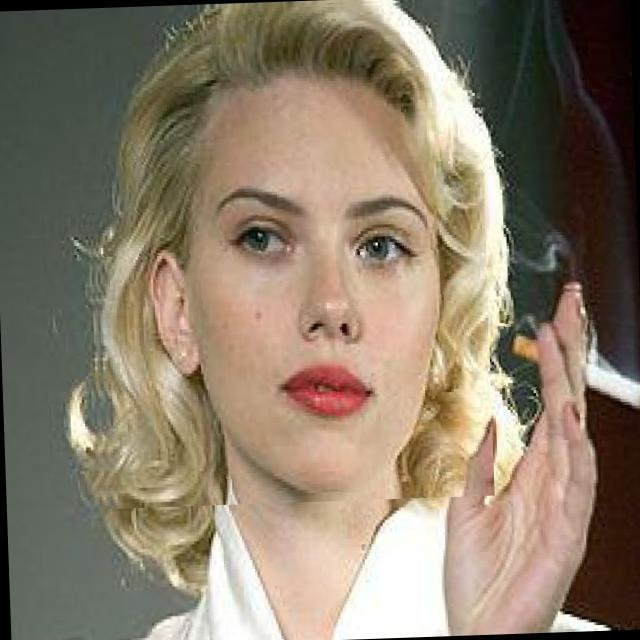cigarette: (498, 279, 640, 441)
